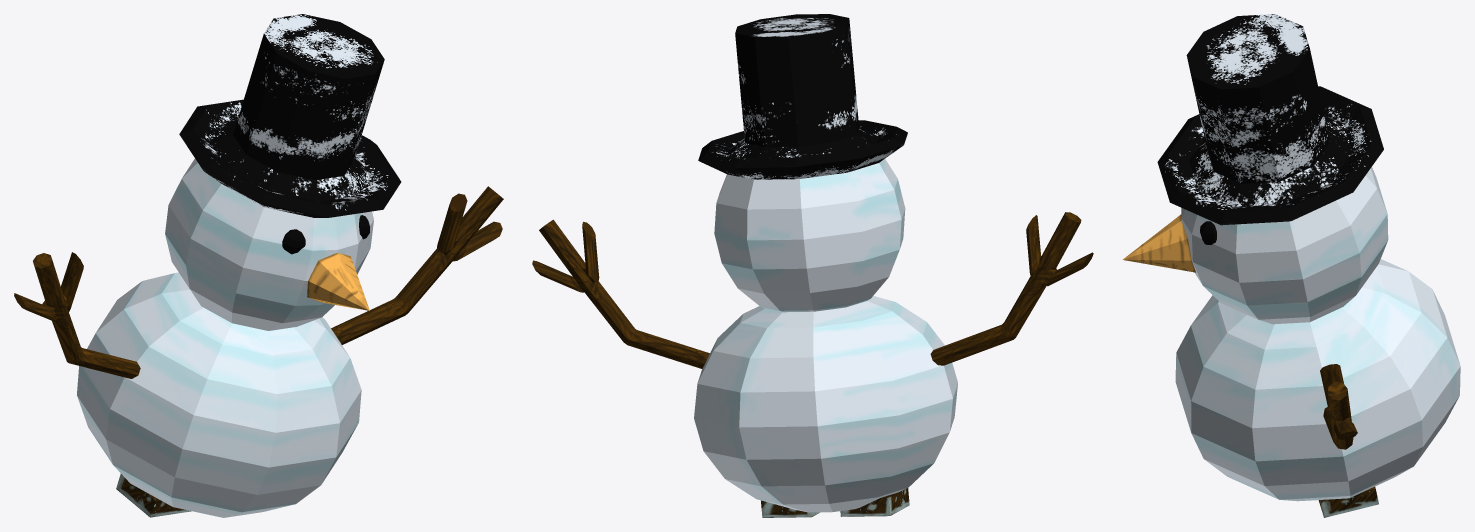
The model's file is SMWalk.fbx.
3 renders of one model, left to right at view 1: azimuth 30°, elevation 25°; view 2: azimuth 150°, elevation 25°; view 3: azimuth 270°, elevation 25°, orthographic. The views are drawn at different scales.
Parts seen in each view (by area): view 1: pCube5; view 2: pCube5; view 3: pCube5.
Boxes of the visible parts, left/top/right/bottom form: pCube5: left=14, top=14, right=503, bottom=517; pCube5: left=532, top=14, right=1093, bottom=517; pCube5: left=1122, top=14, right=1460, bottom=517.
Size of the model in its own units: 5.22 by 4.56 by 2.83.
